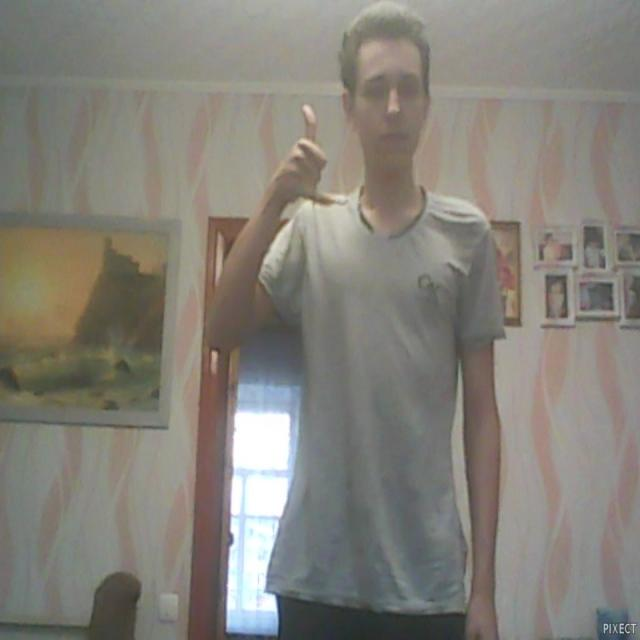call: (276, 101, 348, 212)
